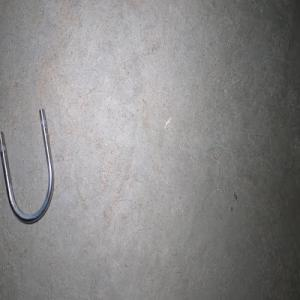ClampPart: (0, 107, 54, 224)
